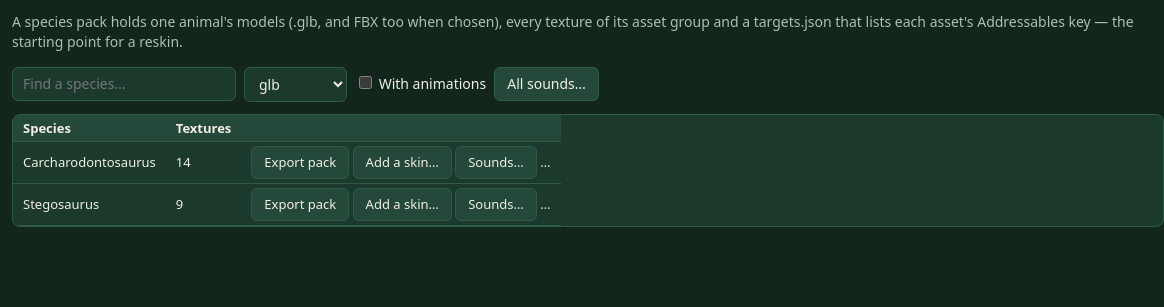
it: SpeciesPanel › opens Add a skin for a species
The image size is (1164, 307).
Click the button with aria-label "Add a skin to Carcharodontosaurus": [402, 163] box 353,146 -> 452,179
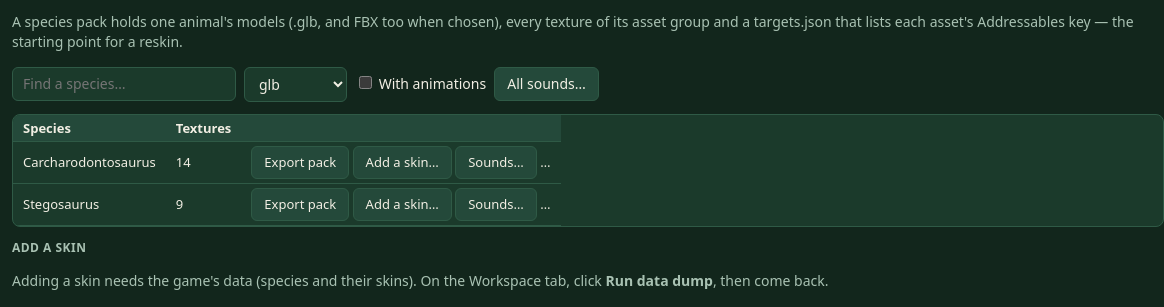
Result: the text "Run data dump" is shown at 606,270 -> 713,290
